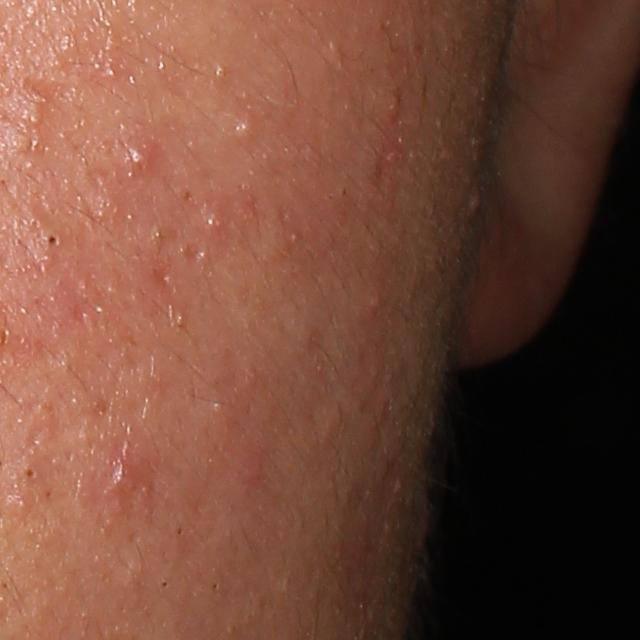comedo: (20, 84, 48, 131), (233, 118, 258, 151), (19, 456, 43, 490), (462, 186, 486, 219), (197, 210, 222, 238), (42, 230, 61, 250), (213, 62, 228, 81), (210, 581, 222, 594)
papule: (99, 453, 139, 502), (122, 144, 159, 181), (381, 91, 401, 127), (364, 289, 383, 312)
